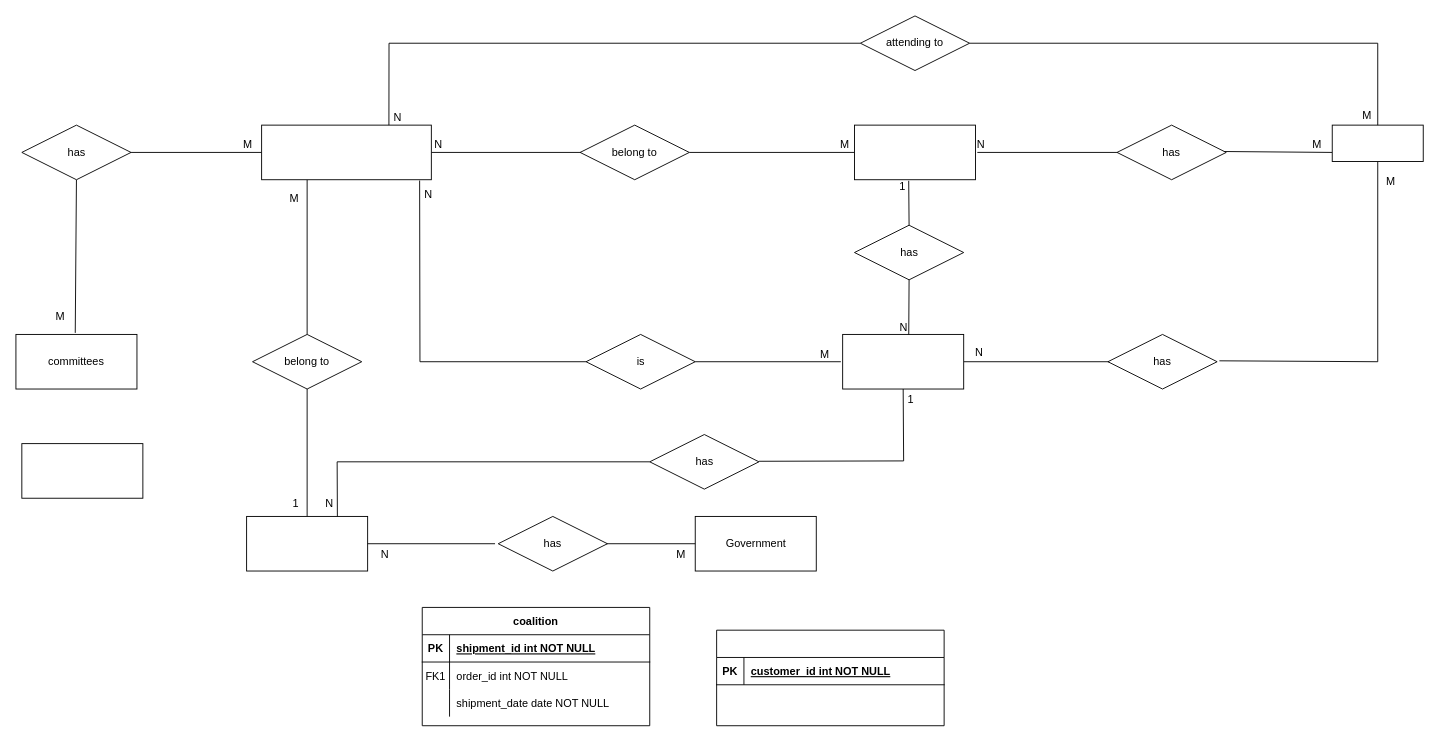
The diagram is 1440 pixels wide and 742 high, and some of its shapes have lost their labels. Each missing label, with the box of its shape:
chairperson: (842, 334, 964, 389)
Knesset: (854, 124, 976, 180)
meeting: (1331, 124, 1423, 162)
Member of Knesset: (261, 124, 431, 180)
party: (246, 516, 368, 571)
prime_minister: (716, 629, 944, 726)
role??: (21, 443, 143, 498)
